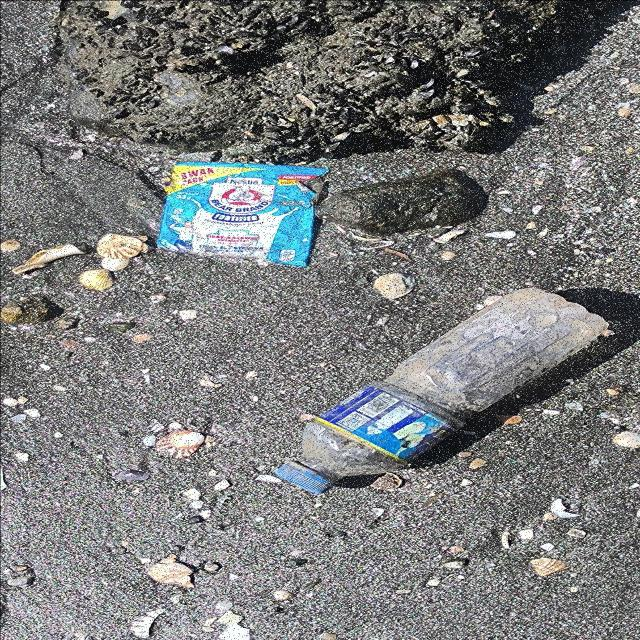plastic_waste: (271, 287, 613, 497), (156, 162, 331, 269)
